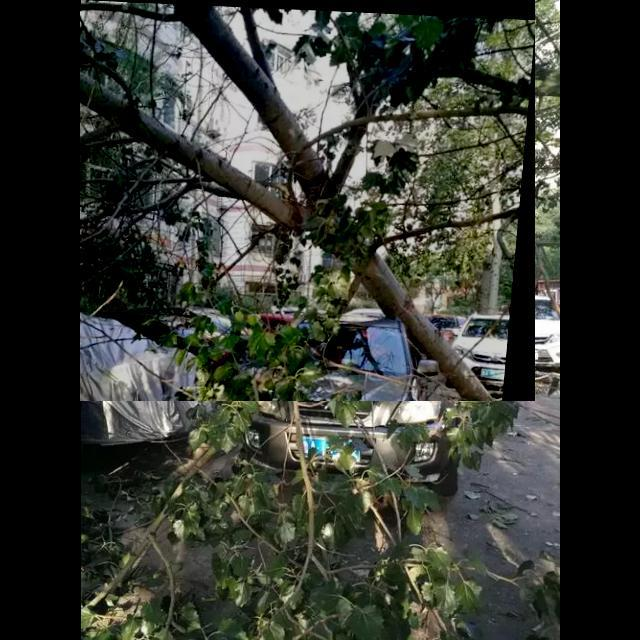fallen_tree: (80, 0, 536, 402)
